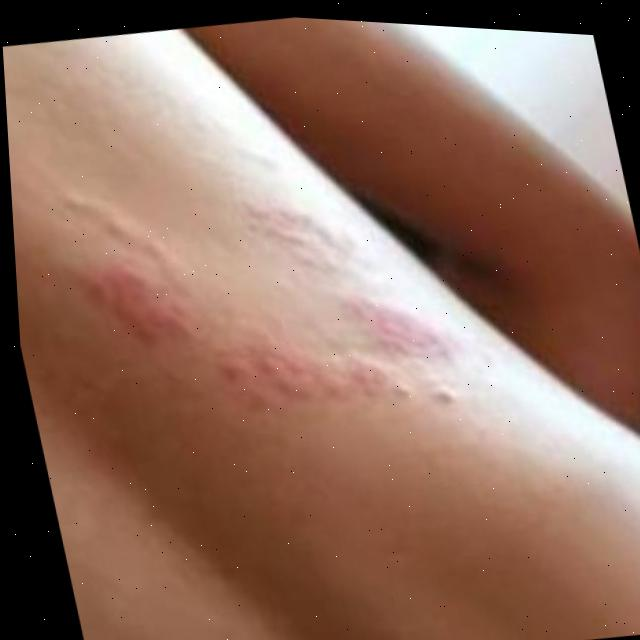Shingles: (122, 188, 439, 422)
